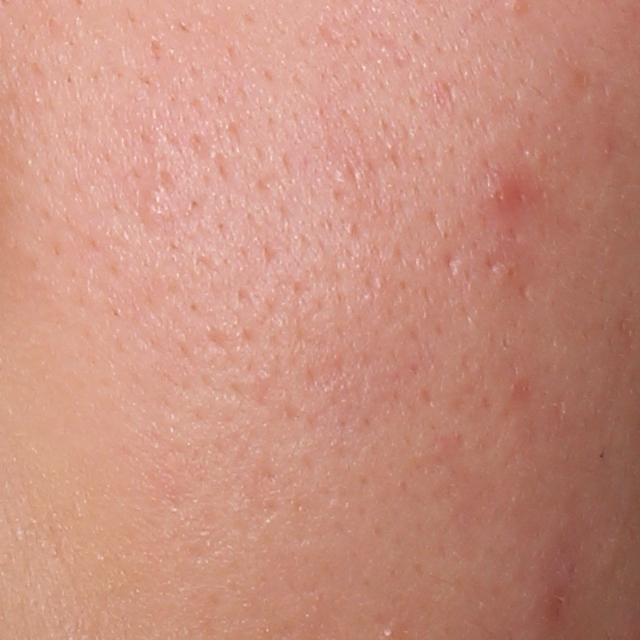atrophic_scar: (127, 158, 177, 239), (439, 251, 461, 281), (516, 275, 533, 305)
papule: (480, 170, 531, 216)
